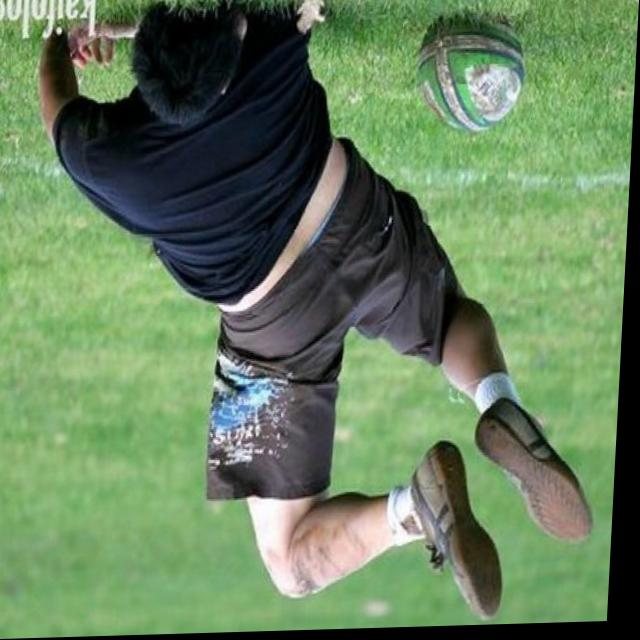fall: (18, 0, 628, 633)
